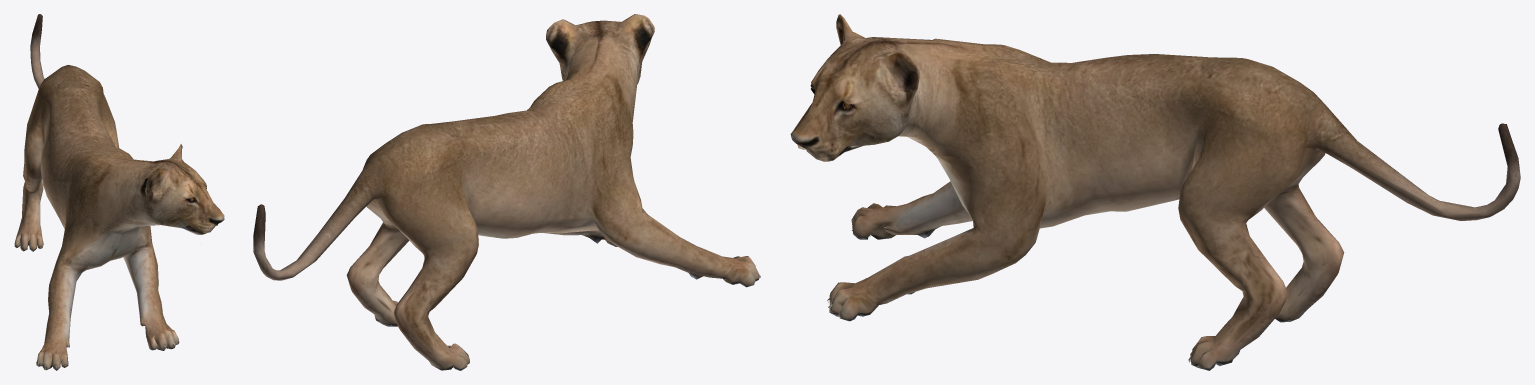
The model's file is lioness.glb.
3 renders of one model, left to right at view 1: azimuth 30°, elevation 25°; view 2: azimuth 150°, elevation 25°; view 3: azimuth 270°, elevation 25°, orthographic. The views are drawn at different scales.
Parts seen in each view (by area): view 1: Lioness001_applied_clean_M_Lioness_0_M_Lioness_0; view 2: Lioness001_applied_clean_M_Lioness_0_M_Lioness_0; view 3: Lioness001_applied_clean_M_Lioness_0_M_Lioness_0.
Part boxes in pixels (bbox=[...]): Lioness001_applied_clean_M_Lioness_0_M_Lioness_0: bbox=[14, 14, 224, 370]; Lioness001_applied_clean_M_Lioness_0_M_Lioness_0: bbox=[253, 14, 760, 370]; Lioness001_applied_clean_M_Lioness_0_M_Lioness_0: bbox=[790, 14, 1520, 370].
Size of the model in its own units: 1.2 by 1.04 by 2.37.
1 material, 1 textured.
